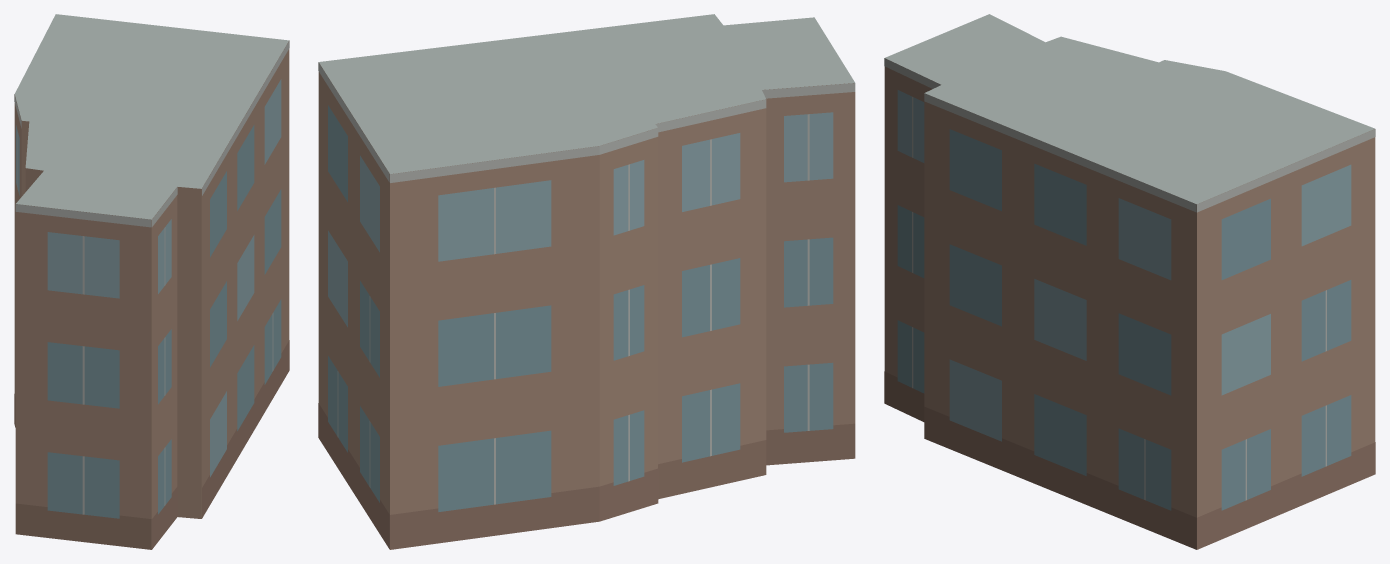
File: survey-upis-32724448.glb
The picture shows the model from 3 angles, left to right: view 1: azimuth 30°, elevation 25°; view 2: azimuth 150°, elevation 25°; view 3: azimuth 270°, elevation 25°; orthographic projection. The views are drawn at different scales.
Parts seen in each view (by area): view 1: survey-upis-32724448.tmp; view 2: survey-upis-32724448.tmp; view 3: survey-upis-32724448.tmp.
Part boxes in pixels (left/top/right/bottom): survey-upis-32724448.tmp: left=14, top=14, right=289, bottom=549; survey-upis-32724448.tmp: left=318, top=14, right=855, bottom=549; survey-upis-32724448.tmp: left=884, top=14, right=1375, bottom=549.
Size of the model in its own units: 12.06 by 10.2 by 13.14.
